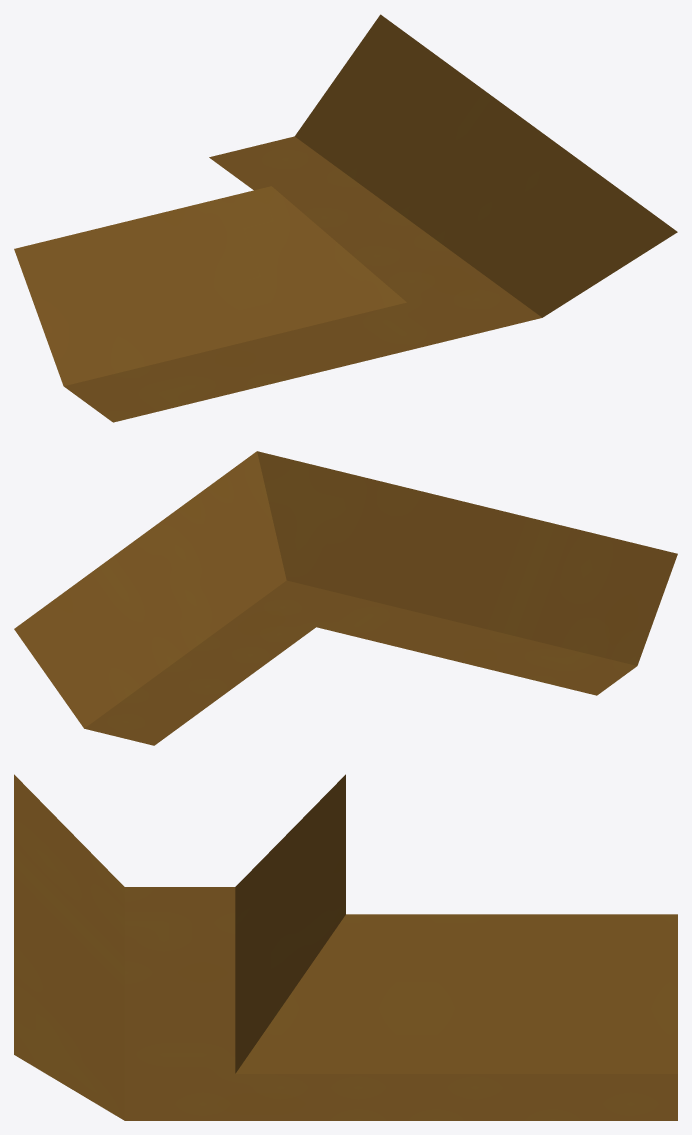
Rendered from trench3.glb.
The picture shows the model from 3 angles, top to bottom: view 1: azimuth 30°, elevation 25°; view 2: azimuth 150°, elevation 25°; view 3: azimuth 270°, elevation 25°; orthographic projection. The views are drawn at different scales.
Visible parts, largest first — view 1: Trench3; view 2: Trench3; view 3: Trench3.
Boxes of the visible parts, x1,y1,x2,y2 form: Trench3: [14, 14, 677, 422]; Trench3: [14, 451, 677, 745]; Trench3: [14, 774, 677, 1120].
Size of the model in its own units: 1.33 by 0.25 by 1.33.
1 material, 1 textured.
